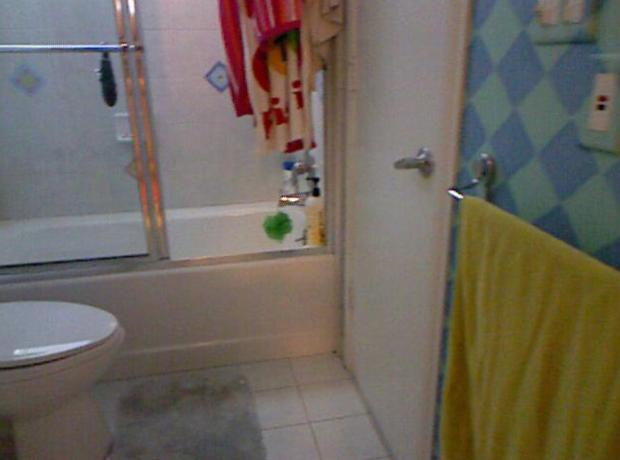Sanitario: (0, 296, 128, 455)
